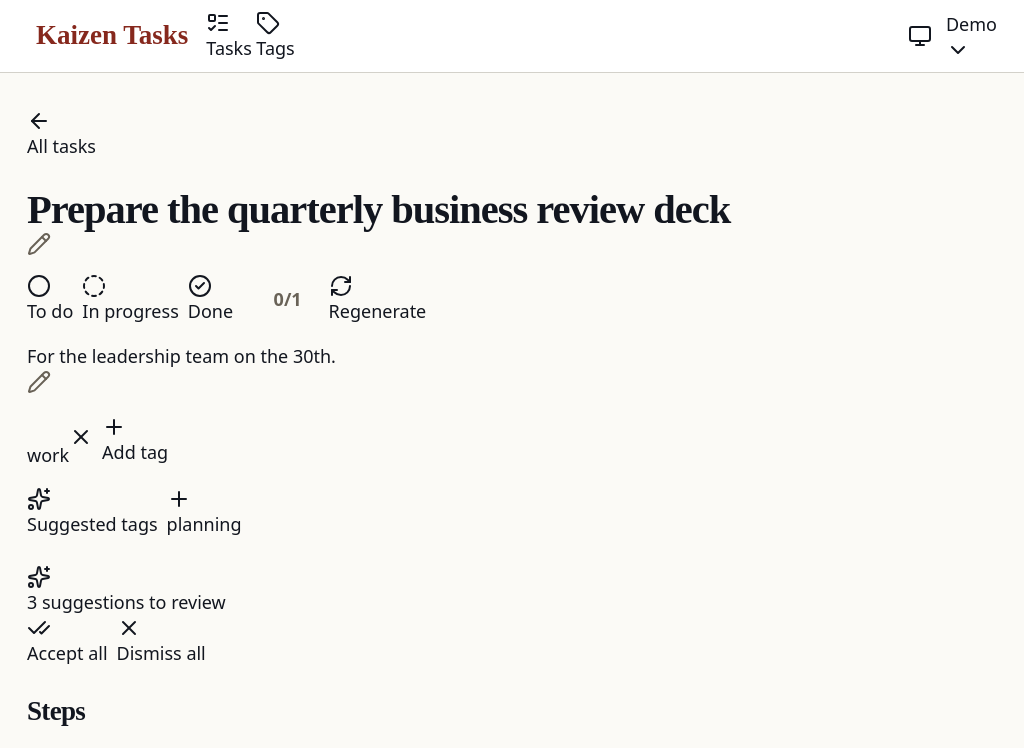
Test: tags on the task › shows the API error when replacing tags fails
Click the button "Add tag": (135, 440) [102,415,168,466]
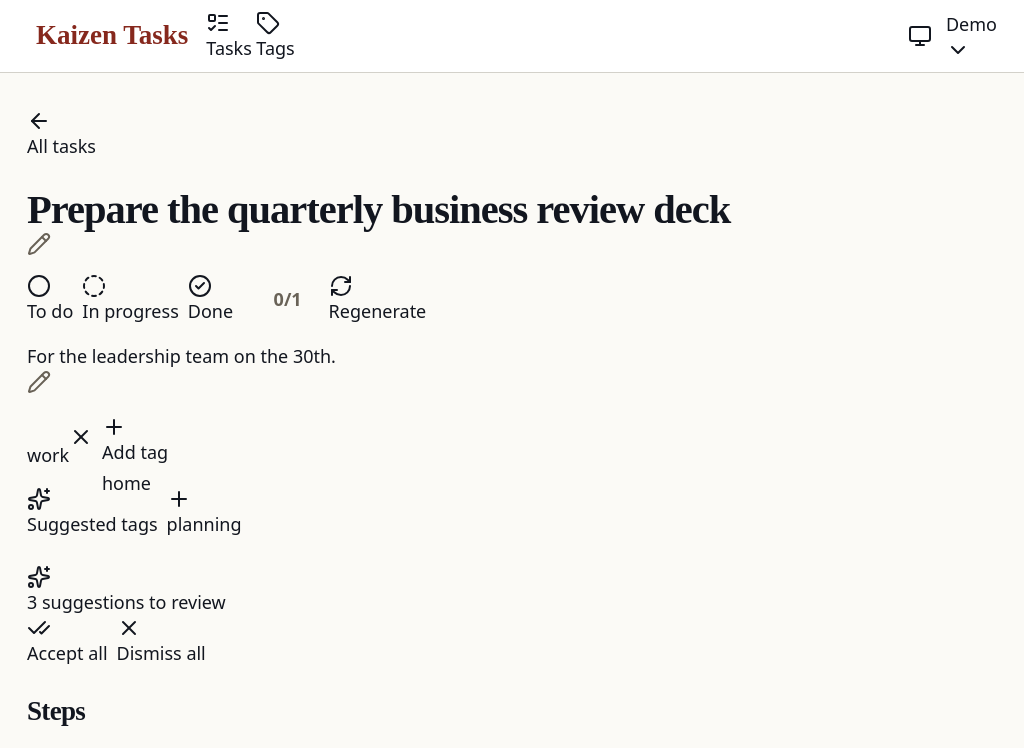
Click the menu item "home": (126, 484) [102,470,151,497]
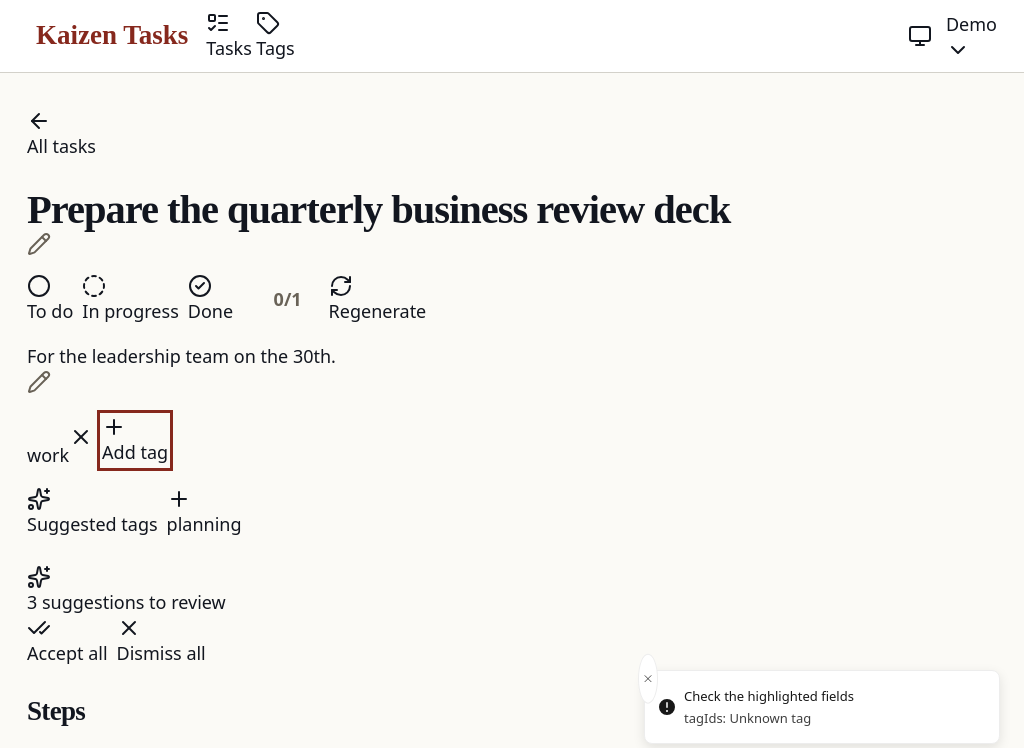
expect the text "Check the highlighted fields" is shown: met, box [684,687,854,707]
expect the text "tagIds: Unknown tag" is shown: met, box [684,709,811,727]
